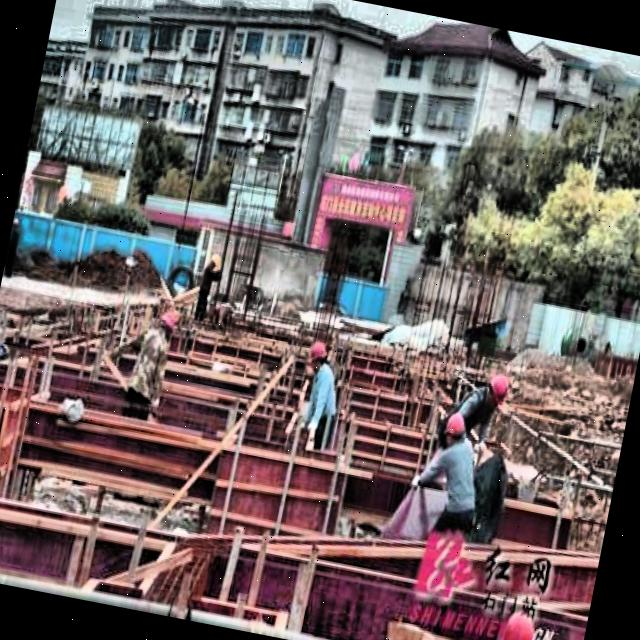helmet: (435, 406, 473, 457), (490, 603, 542, 640), (480, 367, 514, 416), (304, 336, 334, 378), (154, 310, 180, 344)
